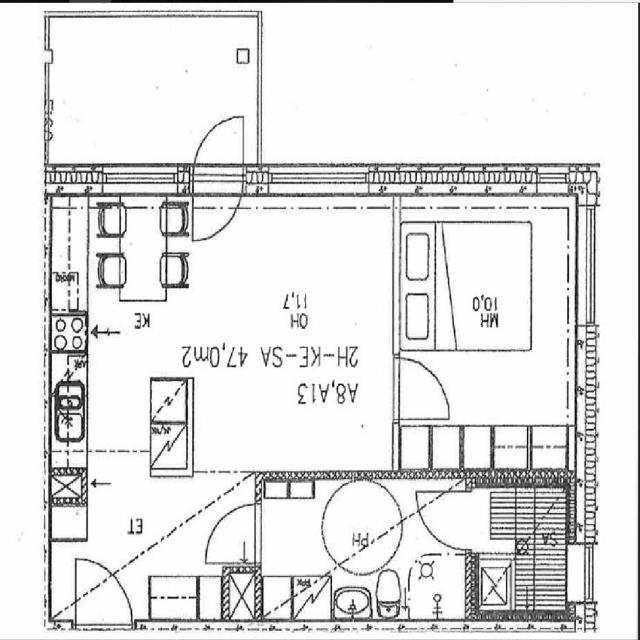door: (76, 553, 132, 639), (192, 163, 244, 254), (192, 104, 244, 195), (393, 358, 452, 420), (206, 505, 262, 564), (416, 492, 472, 550)
